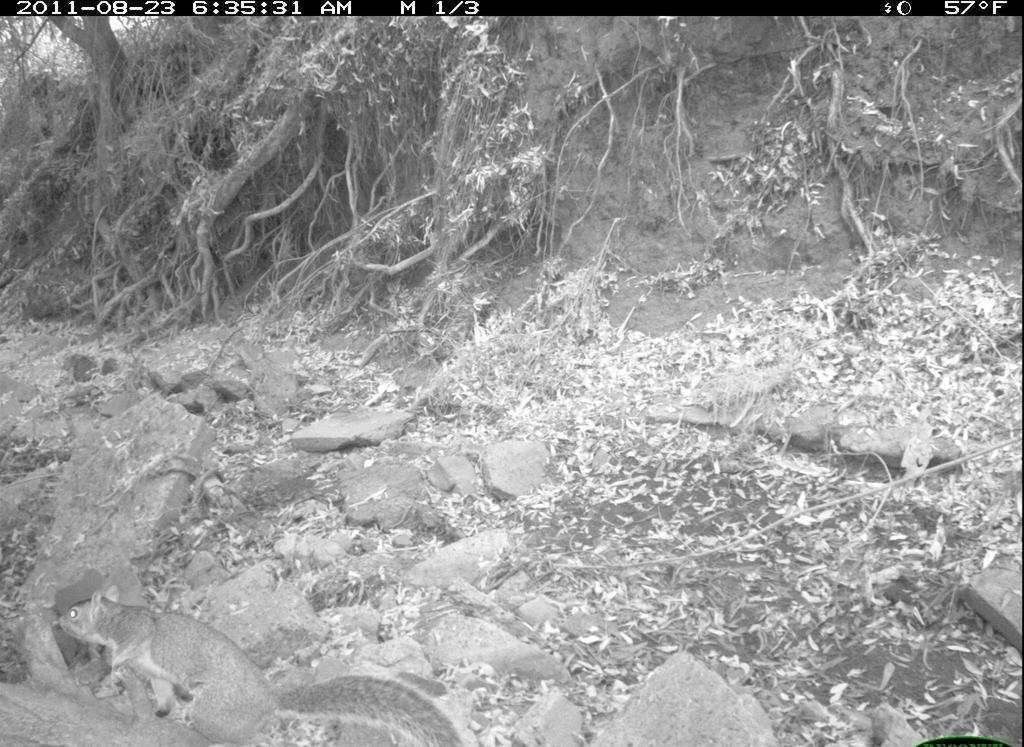squirrel: (57, 587, 478, 745)
